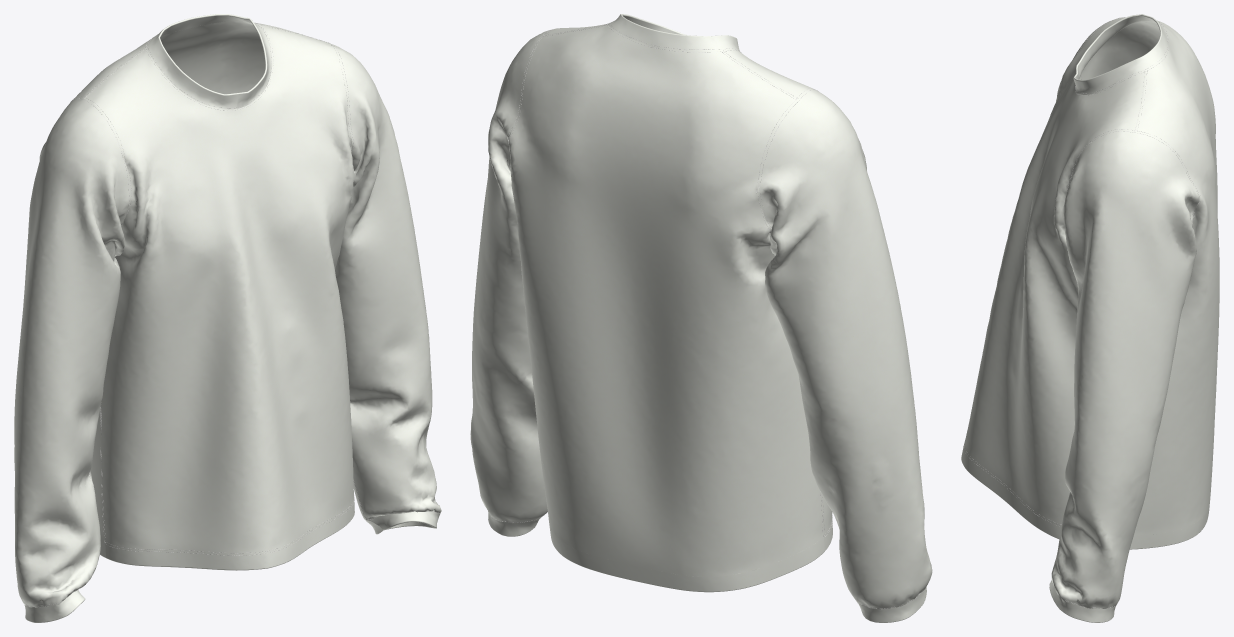
The model's file is manga_larga.glb.
3 renders of one model, left to right at view 1: azimuth 30°, elevation 25°; view 2: azimuth 150°, elevation 25°; view 3: azimuth 270°, elevation 25°, orthographic. The views are drawn at different scales.
Parts seen in each view (by area): view 1: Long Sleeve T-Shirt; view 2: Long Sleeve T-Shirt; view 3: Long Sleeve T-Shirt.
Part boxes in pixels (bbox=[...]): Long Sleeve T-Shirt: bbox=[14, 14, 441, 622]; Long Sleeve T-Shirt: bbox=[470, 14, 932, 622]; Long Sleeve T-Shirt: bbox=[961, 14, 1219, 622].
Bounding box in the file's own units: 0.619 × 0.7566 × 0.3509.
2 materials, 2 textured.
